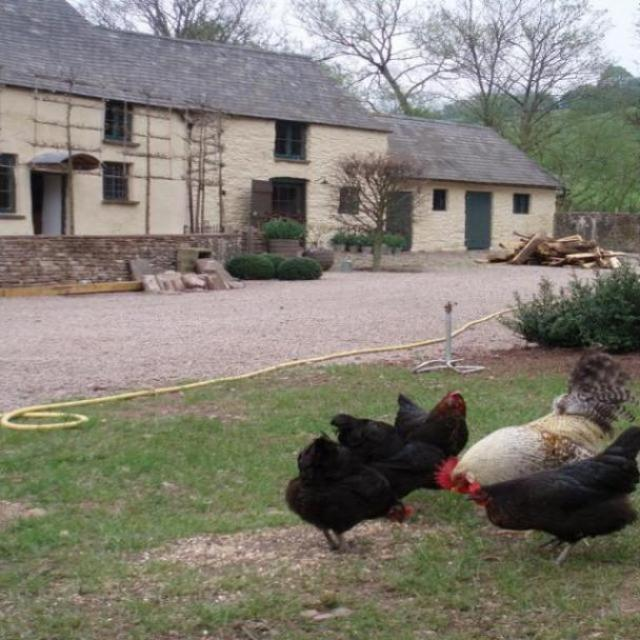Chicken: (424, 330, 639, 498), (472, 418, 639, 577), (271, 431, 424, 568), (332, 405, 443, 528), (376, 383, 469, 453)
